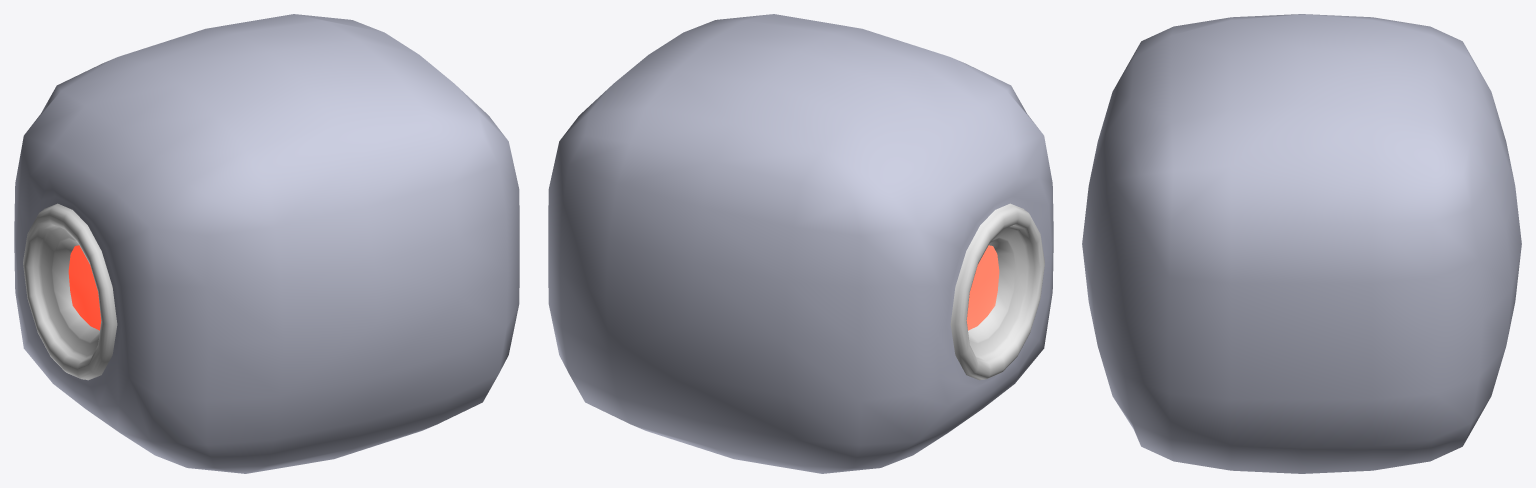
Rendered from monster.glb.
3 views of the same model, side by side, from view 1: azimuth 30°, elevation 25°; view 2: azimuth 150°, elevation 25°; view 3: azimuth 270°, elevation 25° (orthographic).
Visible parts, largest first — view 1: monster_body, monster_metal, monster_emission; view 2: monster_body, monster_metal, monster_emission; view 3: monster_body.
Boxes of the visible parts, x1=… form: monster_body: x1=14, y1=14, x2=519, y2=473; monster_metal: x1=23, y1=203, x2=117, y2=380; monster_emission: x1=68, y1=245, x2=101, y2=330; monster_body: x1=548, y1=14, x2=1053, y2=473; monster_metal: x1=950, y1=203, x2=1044, y2=380; monster_emission: x1=966, y1=245, x2=999, y2=330; monster_body: x1=1082, y1=14, x2=1521, y2=473.
Bounding box in the file's own units: 33.34 × 30.3 × 30.96.
